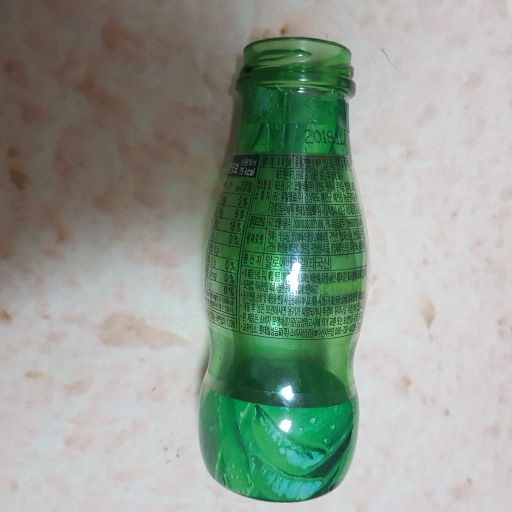Glass_4: (195, 32, 366, 500)
